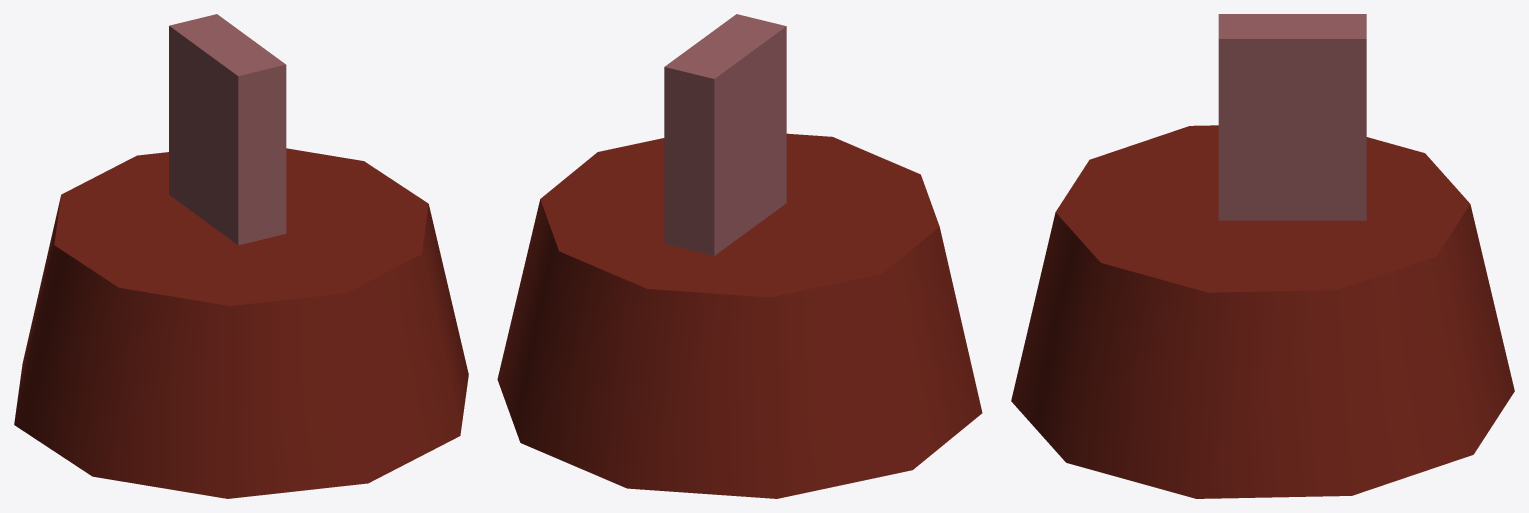
The model's file is head.glb.
3 renders of one model, left to right at view 1: azimuth 30°, elevation 25°; view 2: azimuth 150°, elevation 25°; view 3: azimuth 270°, elevation 25°, orthographic. The views are drawn at different scales.
Visible parts, largest first — view 1: helmet, crest; view 2: helmet, crest; view 3: helmet, crest.
Part boxes in pixels (x1=…): helmet: x1=14, y1=148, x2=468, y2=498; crest: x1=169, y1=14, x2=286, y2=245; helmet: x1=497, y1=133, x2=982, y2=498; crest: x1=664, y1=14, x2=786, y2=255; helmet: x1=1011, y1=125, x2=1514, y2=498; crest: x1=1218, y1=14, x2=1366, y2=220.
Bounding box in the file's own units: 0.6558 × 0.55 × 0.6793.
